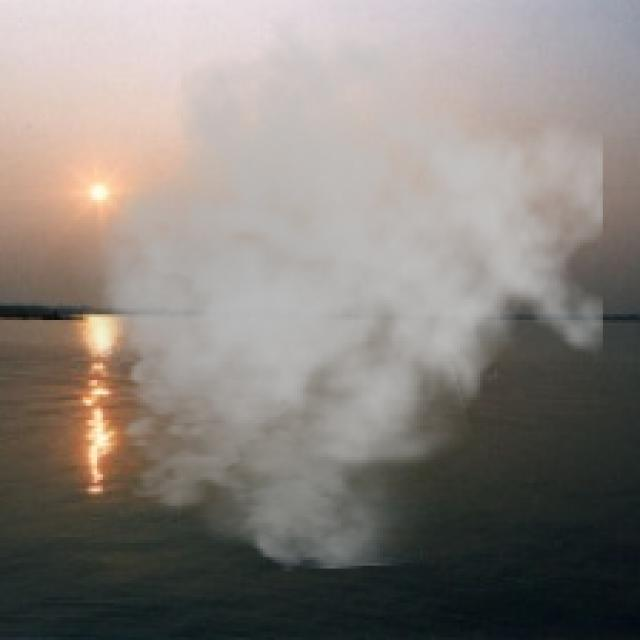smoke: (48, 14, 603, 572)
